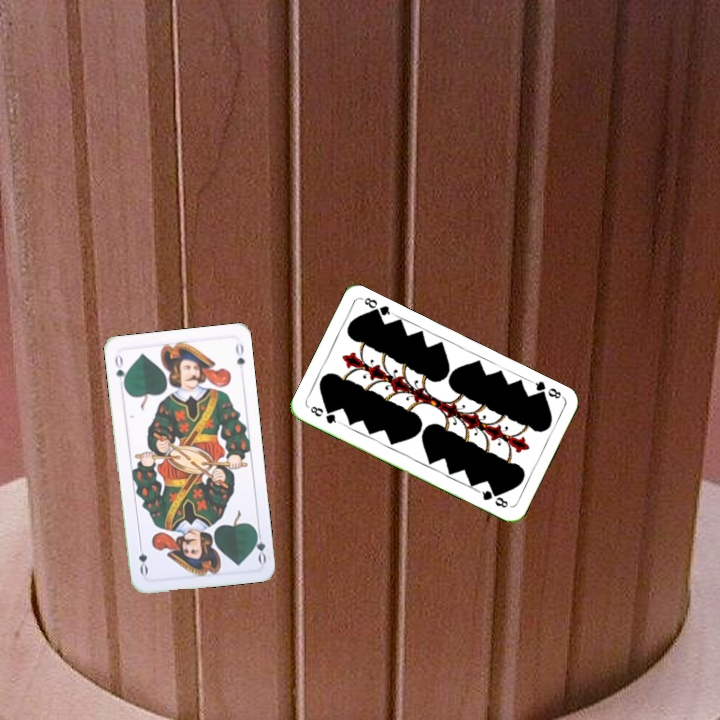G8: (527, 377, 565, 401), (306, 402, 342, 427)
GO: (249, 525, 269, 566), (111, 350, 129, 391)
